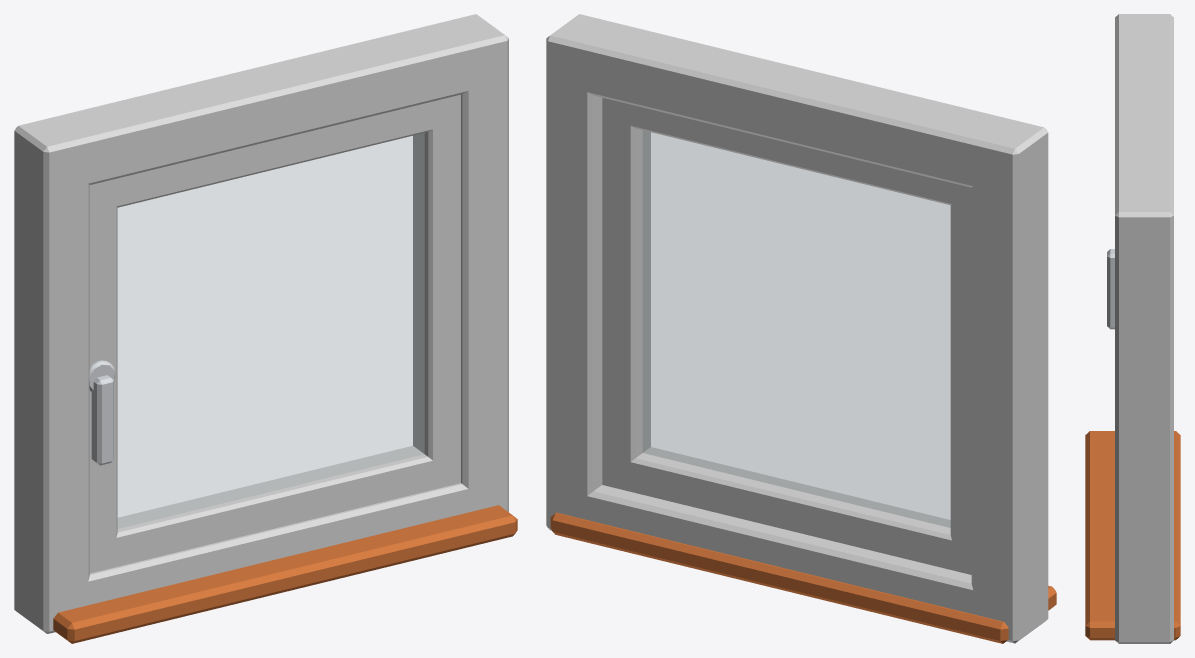
Rendered from window-600x600.glb.
3 views of the same model, side by side, from view 1: azimuth 30°, elevation 25°; view 2: azimuth 150°, elevation 25°; view 3: azimuth 270°, elevation 25° (orthographic). The views are drawn at different scales.
Parts seen in each view (by area): view 1: window-600x600.tint, window-600x600.glass, window-600x600.accent, window-600x600.chrome; view 2: window-600x600.tint, window-600x600.glass, window-600x600.accent; view 3: window-600x600.tint, window-600x600.accent, window-600x600.chrome.
Part boxes in pixels (x1=…): window-600x600.tint: x1=14, y1=14, x2=508, y2=633; window-600x600.glass: x1=118, y1=133, x2=424, y2=528; window-600x600.accent: x1=53, y1=505, x2=517, y2=643; window-600x600.chrome: x1=89, y1=360, x2=115, y2=465; window-600x600.tint: x1=546, y1=14, x2=1048, y2=643; window-600x600.glass: x1=643, y1=130, x2=950, y2=527; window-600x600.accent: x1=550, y1=512, x2=1056, y2=643; window-600x600.tint: x1=1115, y1=14, x2=1173, y2=643; window-600x600.accent: x1=1085, y1=431, x2=1180, y2=640; window-600x600.chrome: x1=1107, y1=249, x2=1114, y2=329.
Size of the model in its own units: 0.6 by 0.6 by 0.12.
